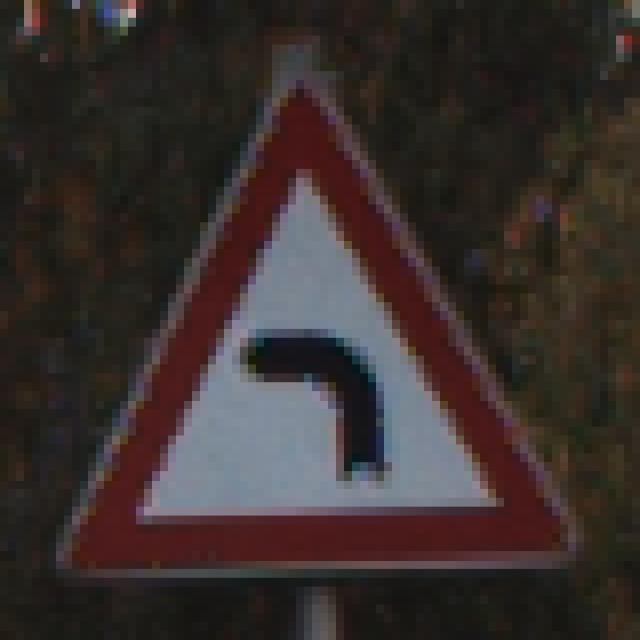left hand curve: (49, 50, 586, 593)
